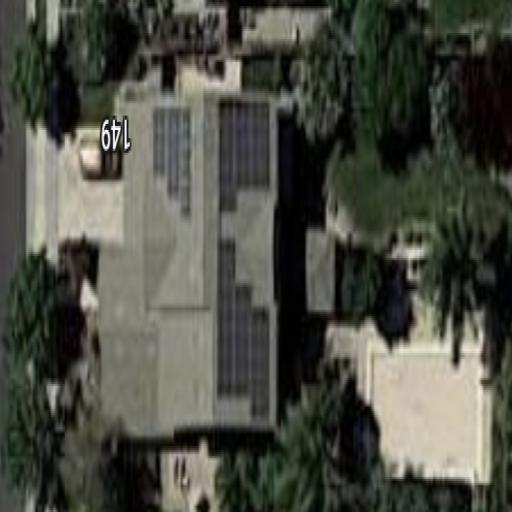Solar-Flat-Roof: (100, 99, 276, 428)
